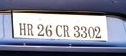0: (87, 26, 95, 39)
2: (37, 23, 45, 38), (94, 26, 102, 39)
3: (80, 25, 88, 39), (73, 25, 81, 38)
6: (45, 24, 54, 37)
C: (55, 25, 63, 37)
H: (17, 22, 27, 37)
R: (62, 24, 71, 38), (26, 23, 34, 36)
